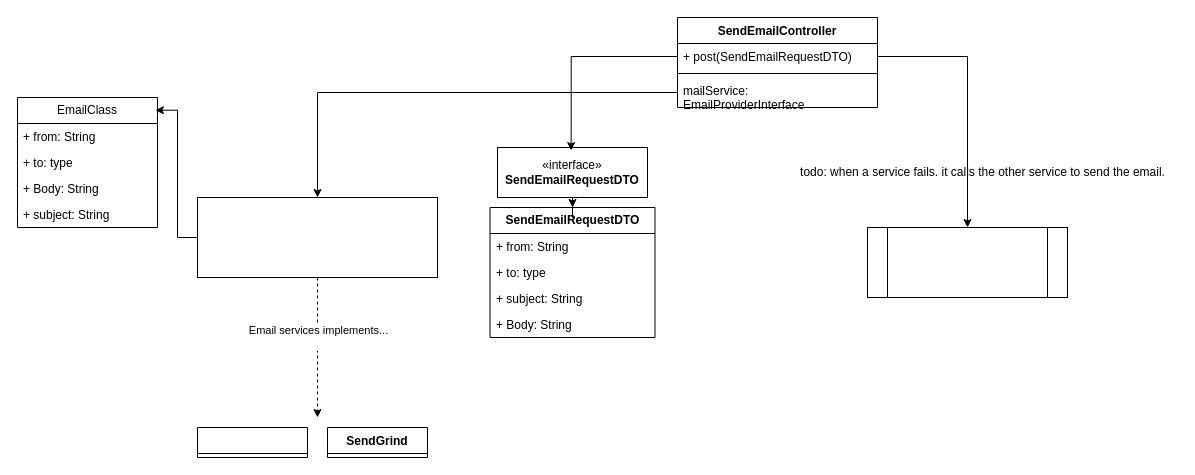
Image size: 1195x475. Some labels were removed from this diagram. The centre of each missing label's shape, as x and y in pixels:
"<<Interface>> EmailProviderInterface + sendEmail(EmailClass)" belongs at (x=317, y=237).
"Amazon SES" belongs at (x=252, y=442).
"this.mailService.sendEmail()" belongs at (x=967, y=262).
